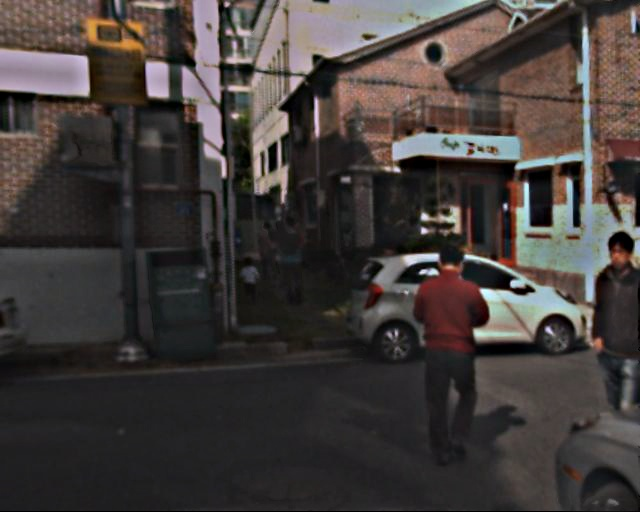person: (403, 241, 494, 461), (566, 232, 640, 474), (273, 216, 312, 306), (253, 218, 280, 285), (238, 256, 261, 308)
